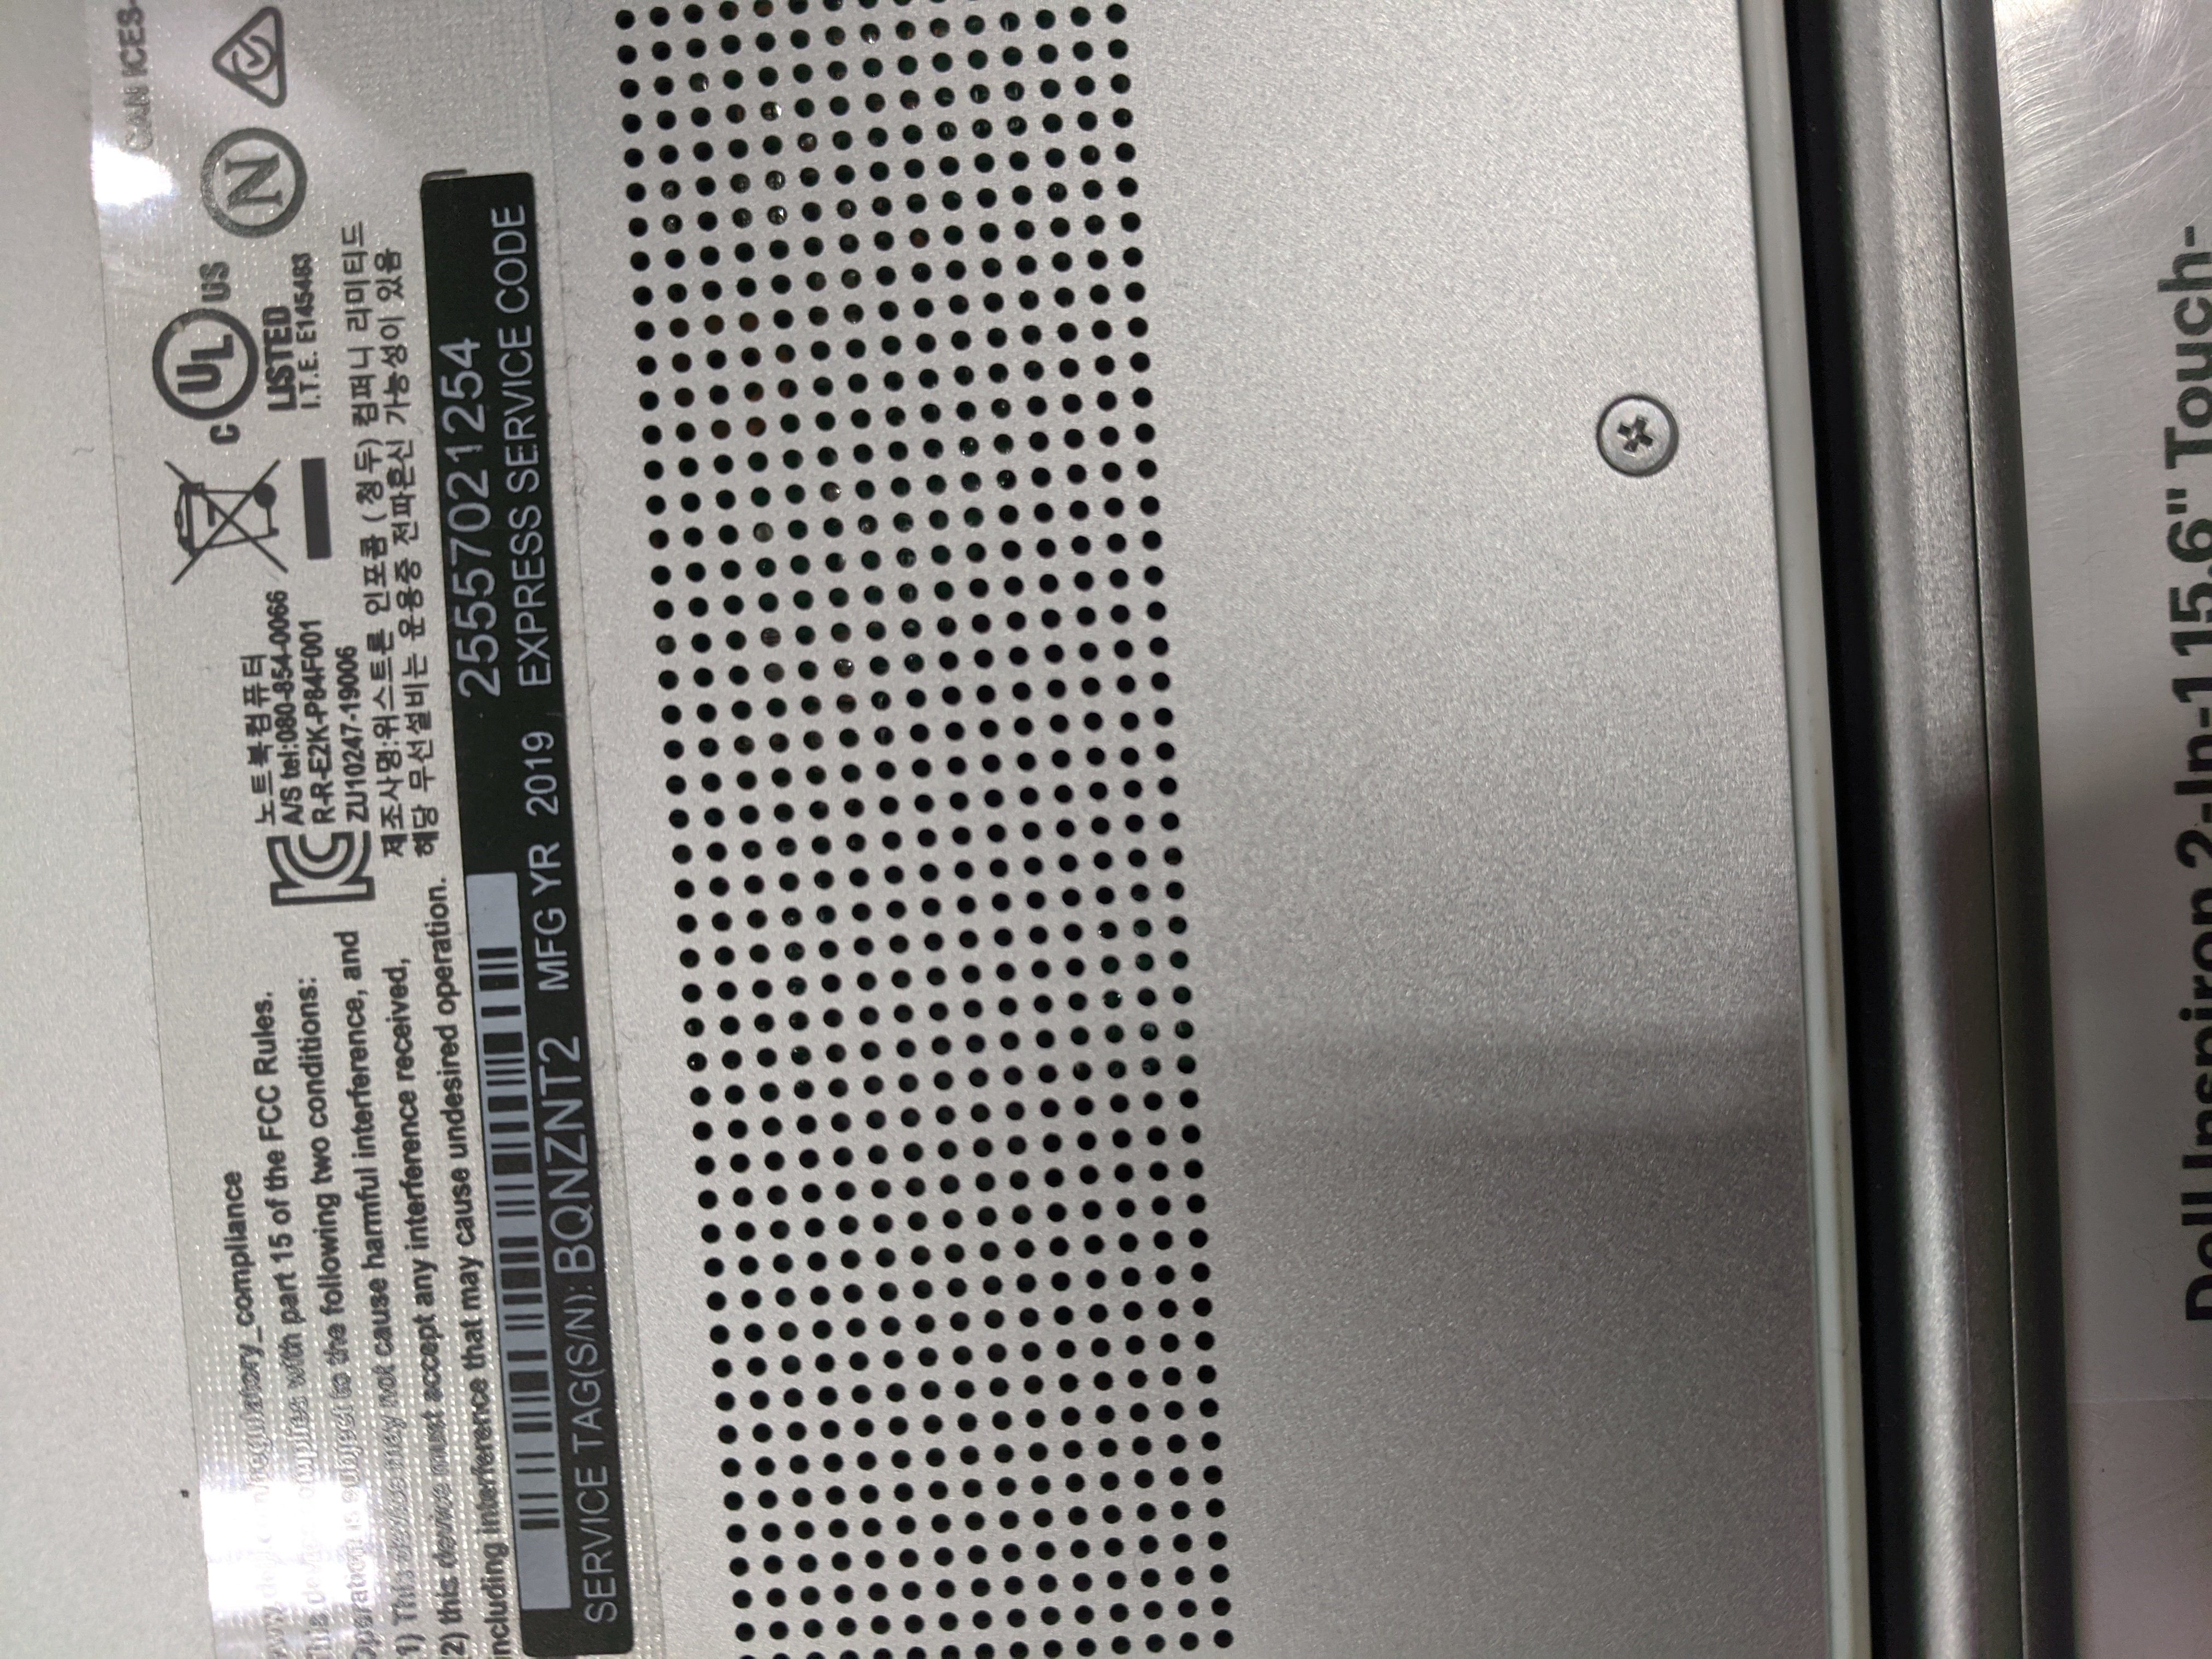cross_recessed_screw: (1590, 383, 1686, 486)
